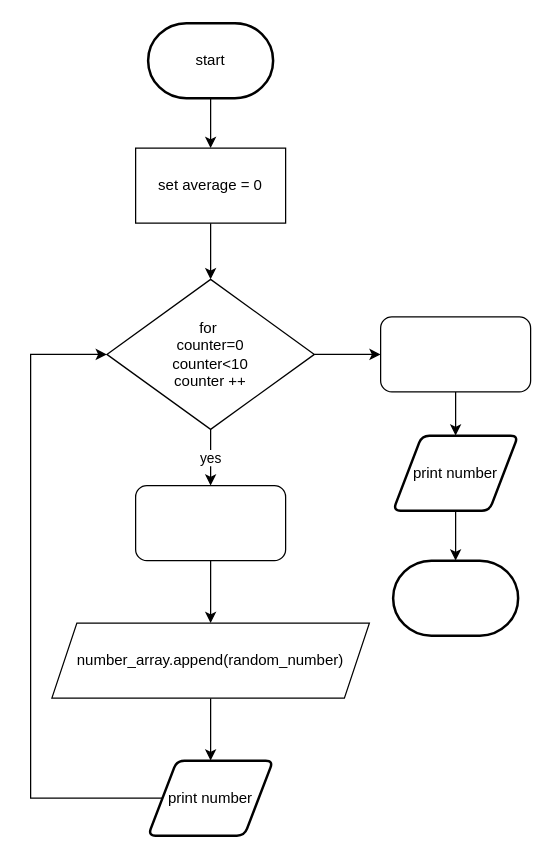
This 553x858 diagram has some shape labels left out. Here are the shapes that lost their labels. From the top down, the centre of each, then its label:
At pixel 455 354: "average = sum (number_array) / 10".
At pixel 210 522: "generate random number".
At pixel 455 597: "end".
